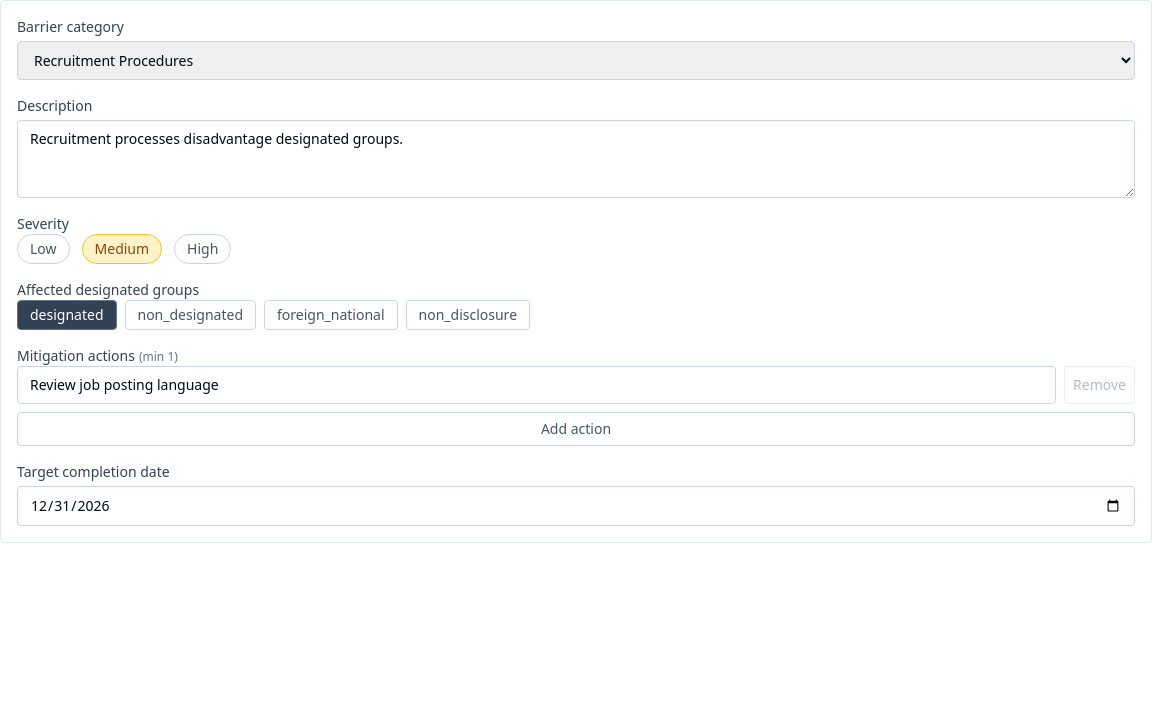
Scenario: BarrierCategoryBlock — analysis mode › removing the second action leaves exactly one action and disables remove again
The width and height of the screenshot is (1152, 720).
Click the button "Add action" at [576, 429], box [17,412,1135,446]
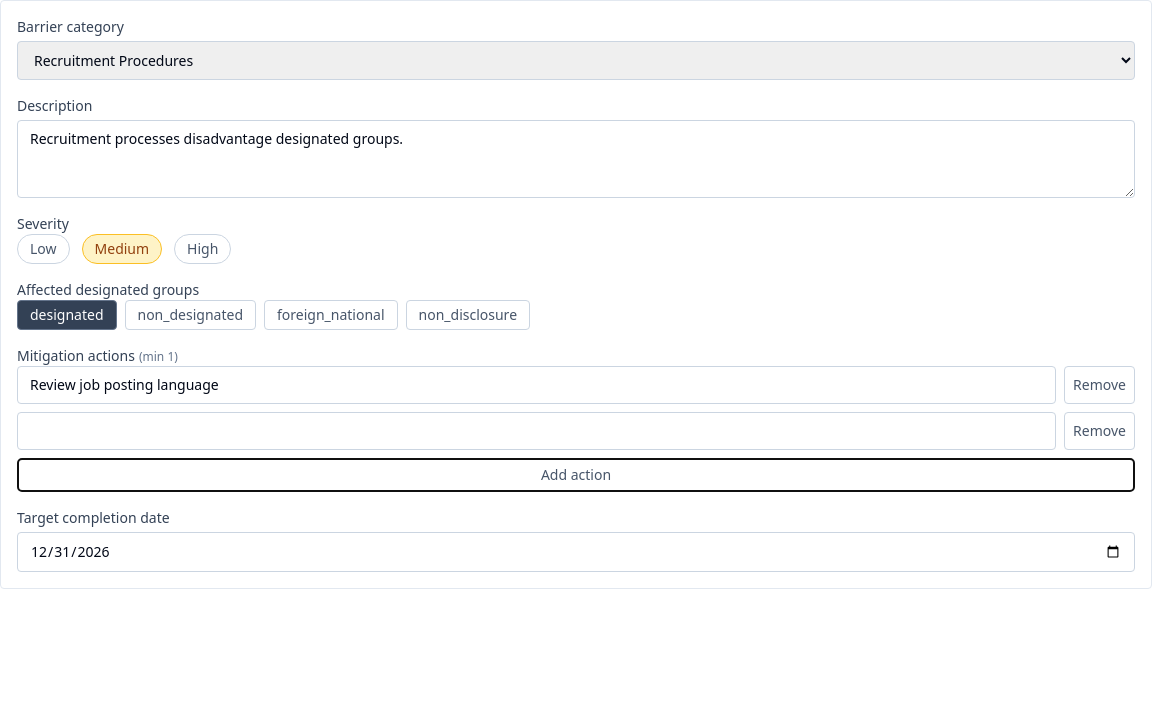
Expected: the number of buttons named "remove mitigation action" is 2
Click the button with aria-label "remove mitigation action" at [1100, 431], box [1064,412,1135,450]
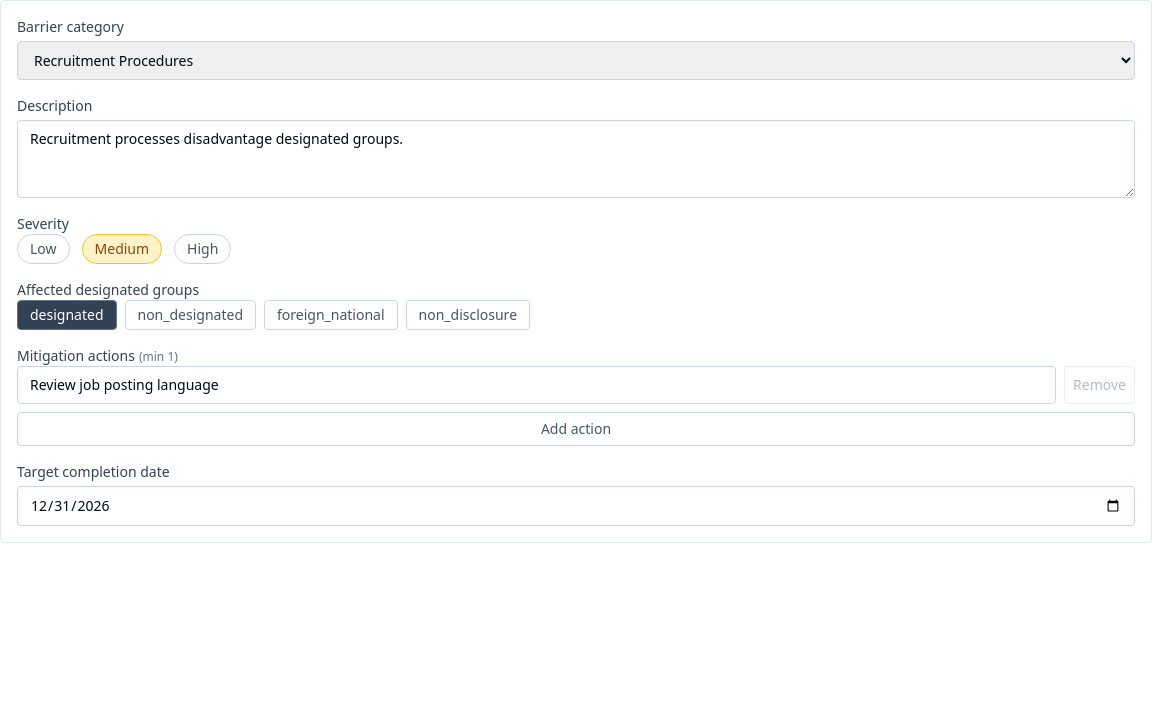
Expected: the number of buttons named "remove mitigation action" is 1, [1064,366,1135,404]
Expected: the button with aria-label "remove mitigation action" is disabled, [1064,366,1135,404]
